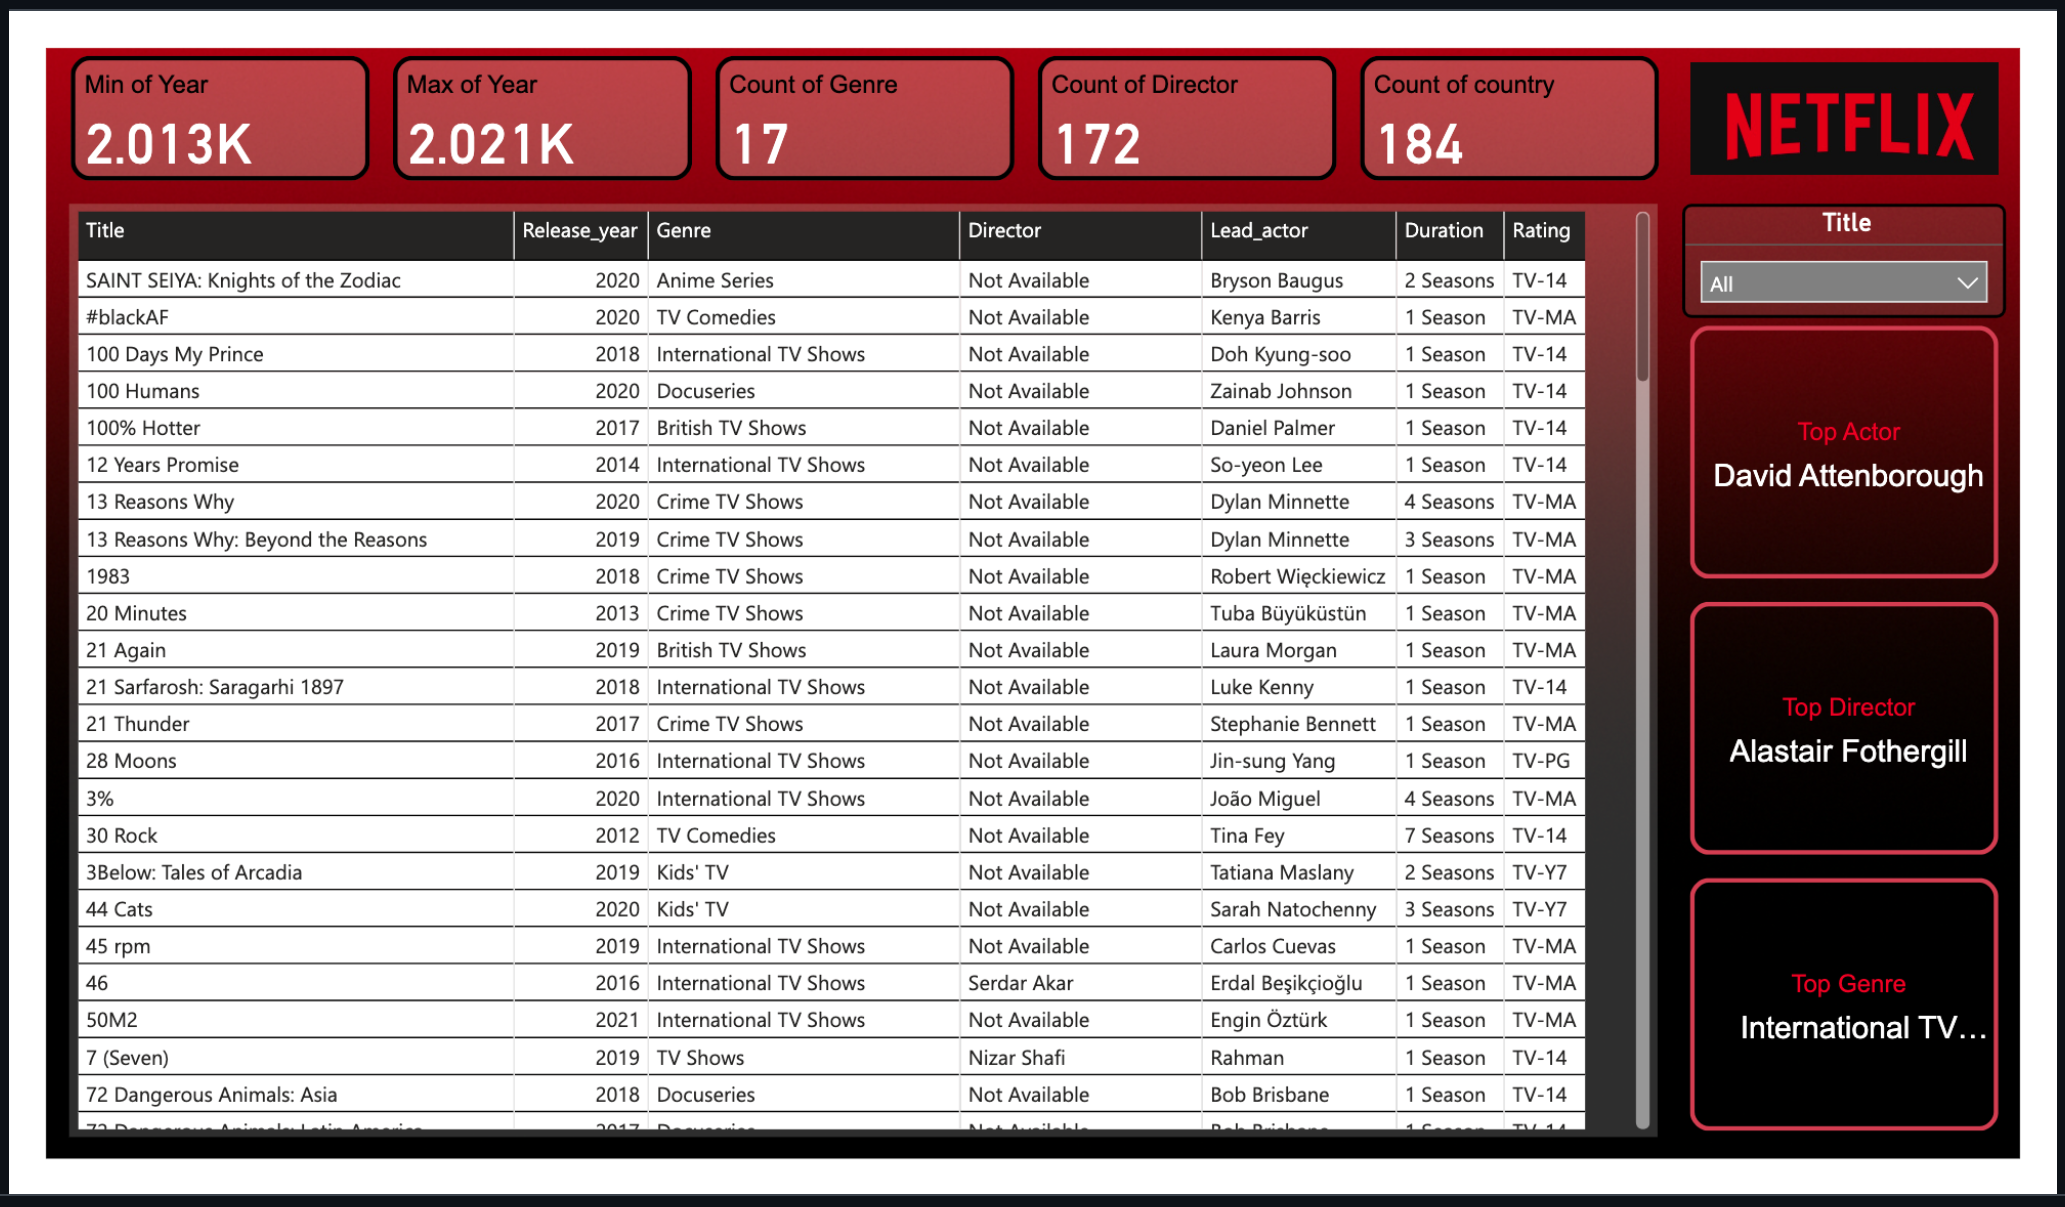

Layout of this report page (visuals, bound fields, positions):
{"tool":"powerbi","page":{"name":"Shows","canvas":[1280,720],"ordinal":2},"visuals":[{"type":"image","box":[1060.7,0,210.4,90.5],"z":0},{"type":"cardVisual","fields":{"Data":["transformed_data.Year","Sum(transformed_data.Year)1","transformed_data.genre","transformed_data.director","transformed_data.country"]},"box":[0,0,1060.7,90.5],"z":1000},{"type":"tableEx","fields":{"Values":["transformed_data.title","transformed_data.release_year","transformed_data.genre","transformed_data.director","transformed_data.lead_actor","transformed_data.duration","transformed_data.rating"]},"box":[15.3,100.7,1030.1,605.6],"z":2000},{"type":"slicer","title":"Title","fields":{"Values":["transformed_data.Title"]},"box":[1060.7,100.7,210.4,73.9],"z":3000},{"type":"cardVisual","fields":{"Data":["transformed_data.Top Actor","transformed_data.Top Director","transformed_data.Top Genre"]},"box":[1061,175,210,532],"z":4000}]}

Visuals, with their boxes on the page's 1280x720 design canvas (x1, y1, x2, y2). These are canvas units, not pixel positions in the 2065x1207 screenshot, which may show the page scaled, cropped or inside an application window:
image: (1061,0,1271,90)
cardVisual - transformed_data.Year x Sum(transformed_data.Year)1: (0,0,1061,90)
tableEx - transformed_data.title x transformed_data.release_year: (15,101,1045,706)
"Title" slicer: (1061,101,1271,175)
cardVisual - transformed_data.Top Actor x transformed_data.Top Director: (1061,175,1271,707)
